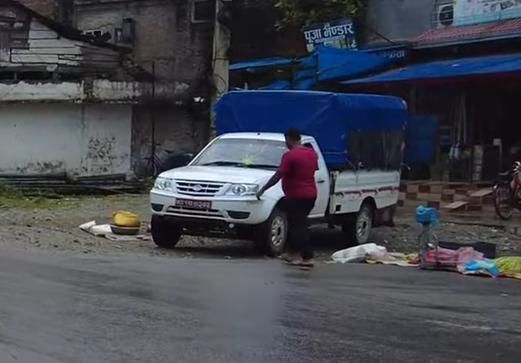transport_vehicle: (143, 88, 417, 263)
